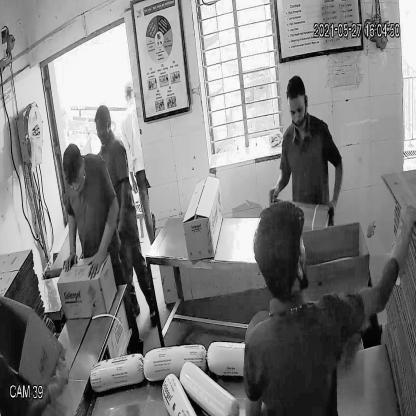no_goggles: (286, 100, 308, 122)
